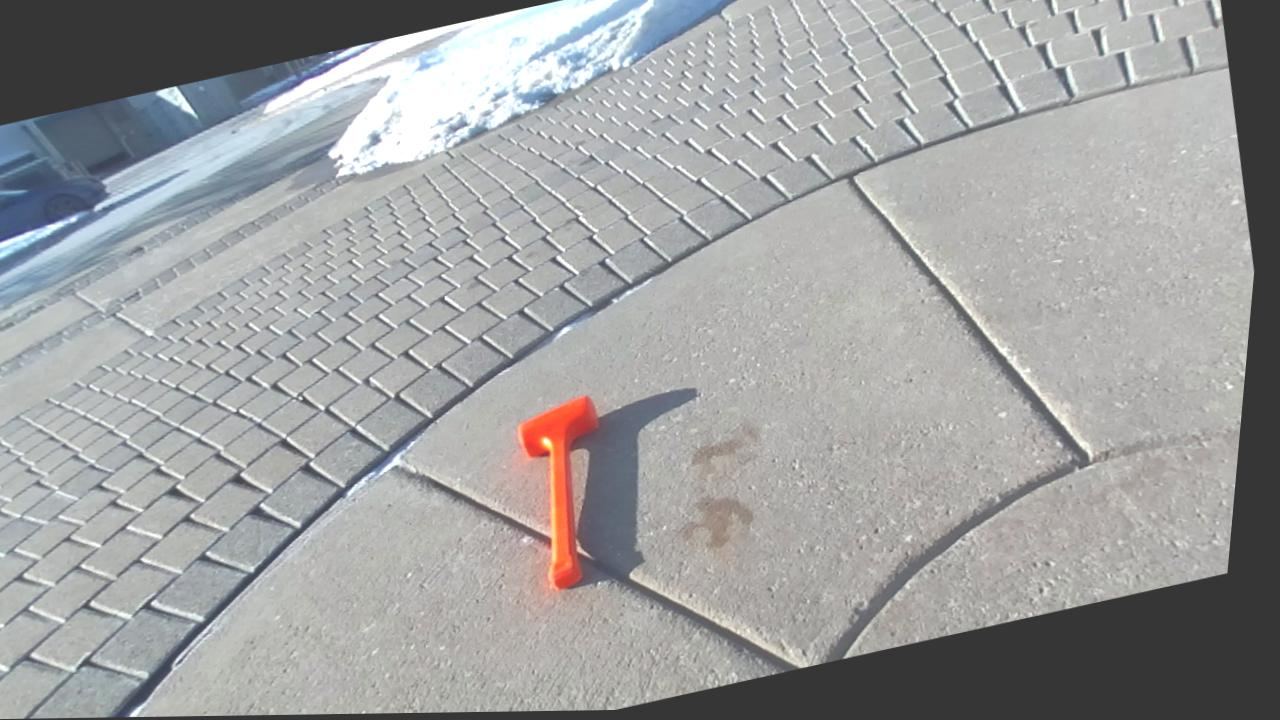mallet: (517, 396, 597, 589)
